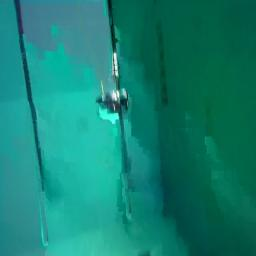front: (95, 88, 131, 116)
